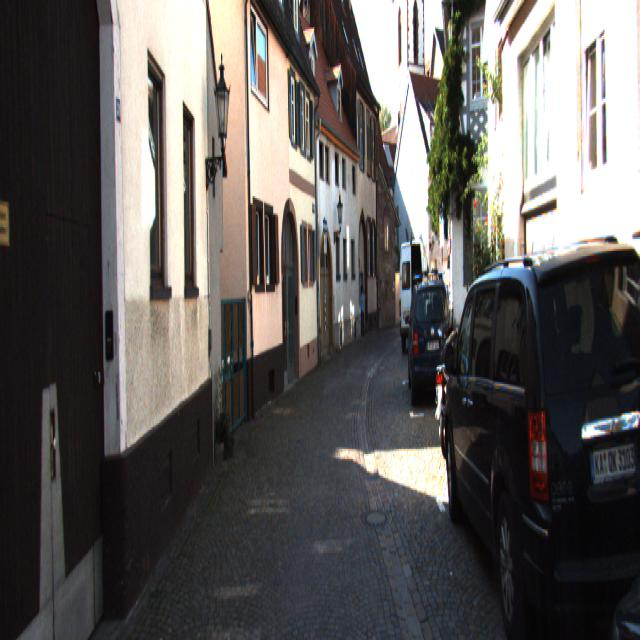Car: (438, 220, 640, 638), (603, 338, 639, 638), (408, 278, 453, 408), (430, 315, 462, 460), (398, 238, 434, 354)
